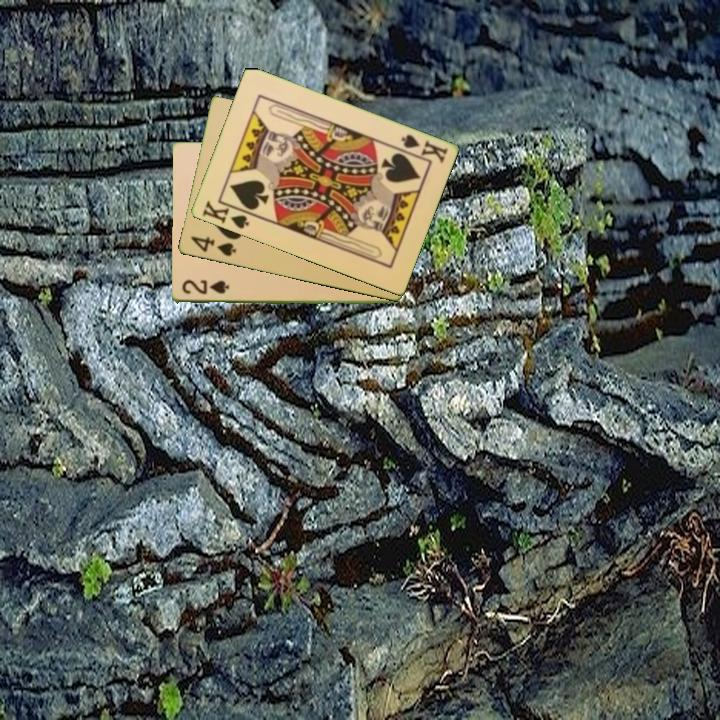2s: (178, 277, 231, 297)
4s: (187, 233, 239, 259)
Ks: (397, 131, 450, 166), (198, 198, 252, 232)
